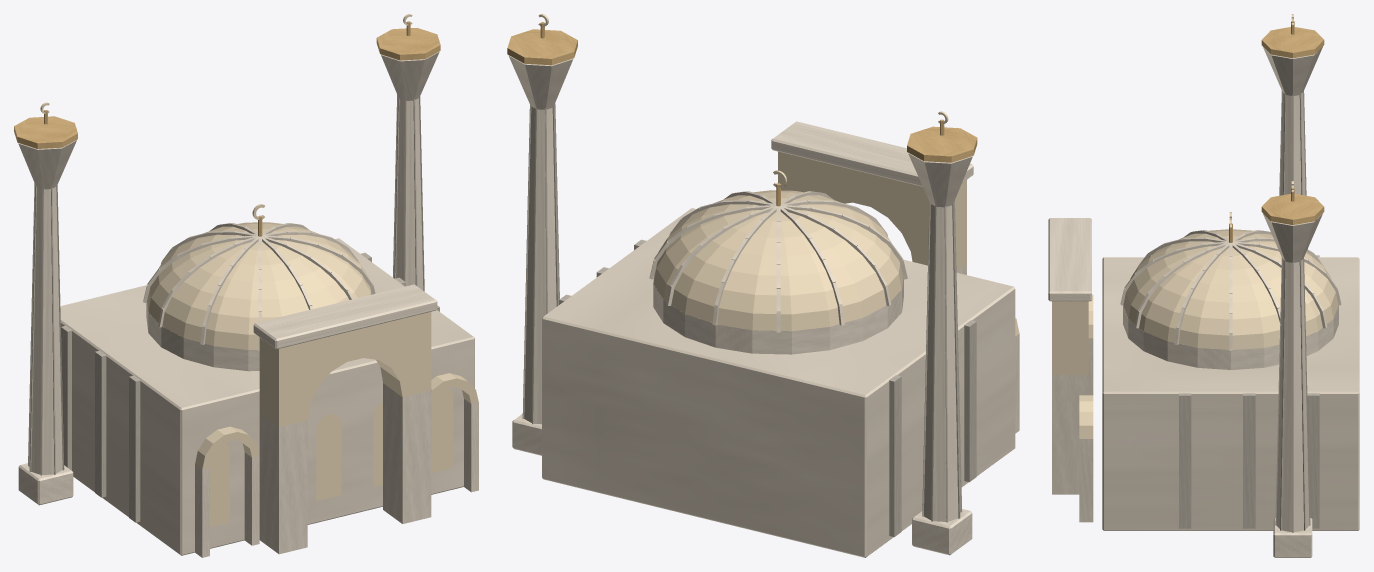
Rendered from mosheer-tantawy-mosque.glb.
3 renders of one model, left to right at view 1: azimuth 30°, elevation 25°; view 2: azimuth 150°, elevation 25°; view 3: azimuth 270°, elevation 25°, orthographic. The views are drawn at different scales.
Parts seen in each view (by area): view 1: mosheer-tantawy-mosque; view 2: mosheer-tantawy-mosque; view 3: mosheer-tantawy-mosque.
Boxes of the visible parts, box(x1,y1,x2,y2) form: mosheer-tantawy-mosque: box(14, 14, 478, 557); mosheer-tantawy-mosque: box(507, 14, 1019, 557); mosheer-tantawy-mosque: box(1048, 14, 1359, 557).
Size of the model in its own units: 9.96 by 8.87 by 6.77.
1 material, 1 textured.
